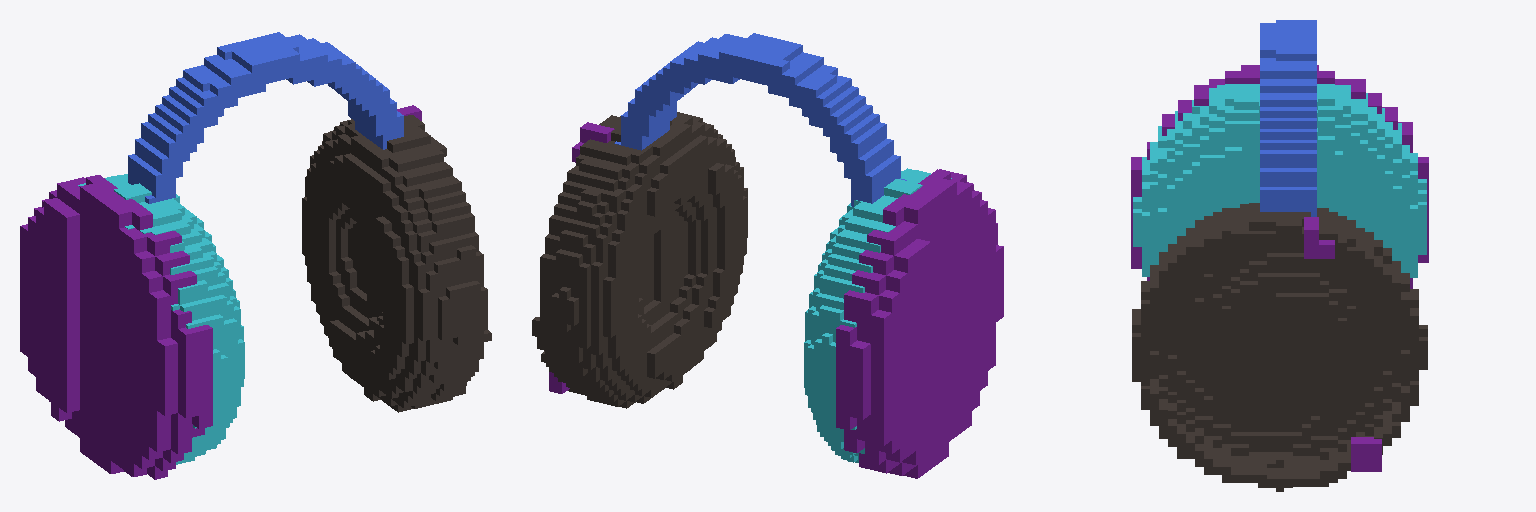
robot.urdf — physxnet_10112_strict:
<?xml version='1.0' encoding='utf-8'?>
<robot name="physxnet_10112_strict">
  <link name="l_world">
    <inertial>
      <origin xyz="0 0 0" rpy="0 0 0" />
      <mass value="0.0100000000" />
      <inertia ixx="0.0000001667" ixy="0.0" ixz="0.0" iyy="0.0000001667" iyz="0.0" izz="0.0000001667" />
    </inertial>
  </link><link name="l_0">
    <inertial>
      <origin xyz="0.0012125996 0.0043174501 0.0592771710" rpy="0 0 0" />
      <mass value="0.0056550373" />
      <inertia ixx="0.0000034559" ixy="0.0" ixz="0.0" iyy="0.0000131434" iyz="0.0" izz="0.0000103473" />
    </inertial><visual>
      <origin xyz="0 0 0" rpy="0 0 0" />
      <geometry>
        <mesh filename="../rigid_visuals/part_000_visual.obj" scale="1 1 1" />
      </geometry><material name="mat_l_0">
        <color rgba="0.32548 0.48041 0.93131 1.00000" />
      </material>
    </visual><collision>
      <origin xyz="0 0 0" rpy="0 0 0" />
      <geometry>
        <mesh filename="part_000_collision.obj" scale="1 1 1" />
      </geometry>
    </collision>
  </link><joint name="joint_fixed_l_world_l_0" type="fixed">
    <parent link="l_world" />
    <child link="l_0" />
    <origin xyz="0 0 0" rpy="0 0 0" />
  </joint><link name="l_1">
    <inertial>
      <origin xyz="0.0906410820 -0.0003711702 -0.0314117703" rpy="0 0 0" />
      <mass value="0.0058319269" />
      <inertia ixx="0.0000180026" ixy="0.0" ixz="0.0" iyy="0.0000092361" iyz="0.0" izz="0.0000090640" />
    </inertial><visual>
      <origin xyz="0 0 0" rpy="0 0 0" />
      <geometry>
        <mesh filename="../rigid_visuals/part_001_visual.obj" scale="1 1 1" />
      </geometry><material name="mat_l_1">
        <color rgba="0.15447 0.35718 0.26453 1.00000" />
      </material>
    </visual><collision>
      <origin xyz="0 0 0" rpy="0 0 0" />
      <geometry>
        <mesh filename="part_001_collision.obj" scale="1 1 1" />
      </geometry>
    </collision>
  </link><joint name="joint_fixed_l_0_l_1" type="fixed">
    <parent link="l_0" />
    <child link="l_1" />
    <origin xyz="0 0 0" rpy="0 0 0" />
  </joint><link name="l_2">
    <inertial>
      <origin xyz="-0.0701059401 0.0005877321 -0.0299587711" rpy="0 0 0" />
      <mass value="0.0024021886" />
      <inertia ixx="0.0000077468" ixy="0.0" ixz="0.0" iyy="0.0000042004" iyz="0.0" izz="0.0000042321" />
    </inertial><visual>
      <origin xyz="0 0 0" rpy="0 0 0" />
      <geometry>
        <mesh filename="../rigid_visuals/part_002_visual.obj" scale="1 1 1" />
      </geometry><material name="mat_l_2">
        <color rgba="0.29417 0.82410 0.87988 1.00000" />
      </material>
    </visual><collision>
      <origin xyz="0 0 0" rpy="0 0 0" />
      <geometry>
        <mesh filename="part_002_collision.obj" scale="1 1 1" />
      </geometry>
    </collision>
  </link><joint name="joint_fixed_l_1_l_2" type="fixed">
    <parent link="l_1" />
    <child link="l_2" />
    <origin xyz="0 0 0" rpy="0 0 0" />
  </joint><link name="l_3">
    <inertial>
      <origin xyz="-0.0025970270 -0.0000234088 -0.0299920459" rpy="0 0 0" />
      <mass value="0.0661568645" />
      <inertia ixx="0.0002093474" ixy="0.0" ixz="0.0" iyy="0.0003107027" iyz="0.0" izz="0.0003118381" />
    </inertial><visual>
      <origin xyz="0 0 0" rpy="0 0 0" />
      <geometry>
        <mesh filename="../rigid_visuals/part_003_visual.obj" scale="1 1 1" />
      </geometry><material name="mat_l_3">
        <color rgba="0.55944 0.19916 0.68114 1.00000" />
      </material>
    </visual><collision>
      <origin xyz="0 0 0" rpy="0 0 0" />
      <geometry>
        <mesh filename="part_003_collision.obj" scale="1 1 1" />
      </geometry>
    </collision>
  </link><joint name="joint_fixed_l_2_l_3" type="fixed">
    <parent link="l_2" />
    <child link="l_3" />
    <origin xyz="0 0 0" rpy="0 0 0" />
  </joint><link name="l_4">
    <inertial>
      <origin xyz="0.0715840639 -0.0005972917 -0.0305915437" rpy="0 0 0" />
      <mass value="0.0025745530" />
      <inertia ixx="0.0000083015" ixy="0.0" ixz="0.0" iyy="0.0000045565" iyz="0.0" izz="0.0000045894" />
    </inertial><visual>
      <origin xyz="0 0 0" rpy="0 0 0" />
      <geometry>
        <mesh filename="../rigid_visuals/part_004_visual.obj" scale="1 1 1" />
      </geometry><material name="mat_l_4">
        <color rgba="0.31347 0.28085 0.26098 1.00000" />
      </material>
    </visual><collision>
      <origin xyz="0 0 0" rpy="0 0 0" />
      <geometry>
        <mesh filename="part_004_collision.obj" scale="1 1 1" />
      </geometry>
    </collision>
  </link><joint name="joint_fixed_l_3_l_4" type="fixed">
    <parent link="l_3" />
    <child link="l_4" />
    <origin xyz="0 0 0" rpy="0 0 0" />
  </joint>
</robot>

--- Facts derived from the render (not from the file) ---
Views: 3 orthographic renders of the robot side by side, from view 1: azimuth 30°, elevation 25°; view 2: azimuth 150°, elevation 25°; view 3: azimuth 270°, elevation 25°.
Robot: physxnet_10112_strict — 6 links, 5 joints (5 fixed); root link l_world; default pose: all joints at 0.
Links seen in each view (by area): view 1: l_3, l_4, l_0, l_2; view 2: l_4, l_3, l_0, l_2; view 3: l_4, l_2, l_0, l_3.
Link boxes in pixels (box(x1,y1,x2,y2)): l_3: box(20, 105, 421, 479); l_4: box(302, 115, 491, 412); l_0: box(128, 32, 403, 203); l_2: box(78, 174, 244, 464); l_4: box(532, 112, 747, 408); l_3: box(549, 122, 1003, 478); l_0: box(614, 33, 906, 206); l_2: box(804, 168, 951, 462); l_4: box(1132, 203, 1427, 491); l_2: box(1133, 84, 1426, 277); l_0: box(1260, 20, 1316, 216); l_3: box(1131, 65, 1428, 471).
Bounding box of the posed robot: 0.2013 × 0.1471 × 0.2065 m (x, y, z).
4 mesh visuals loaded from 5 distinct referenced files (4 OBJ); not drawn: 1 (reference not matched to a file when rendering).
